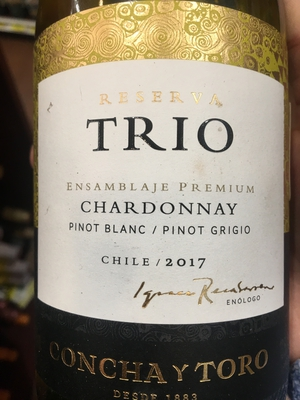trio chardonnay: (30, 12, 294, 389)
